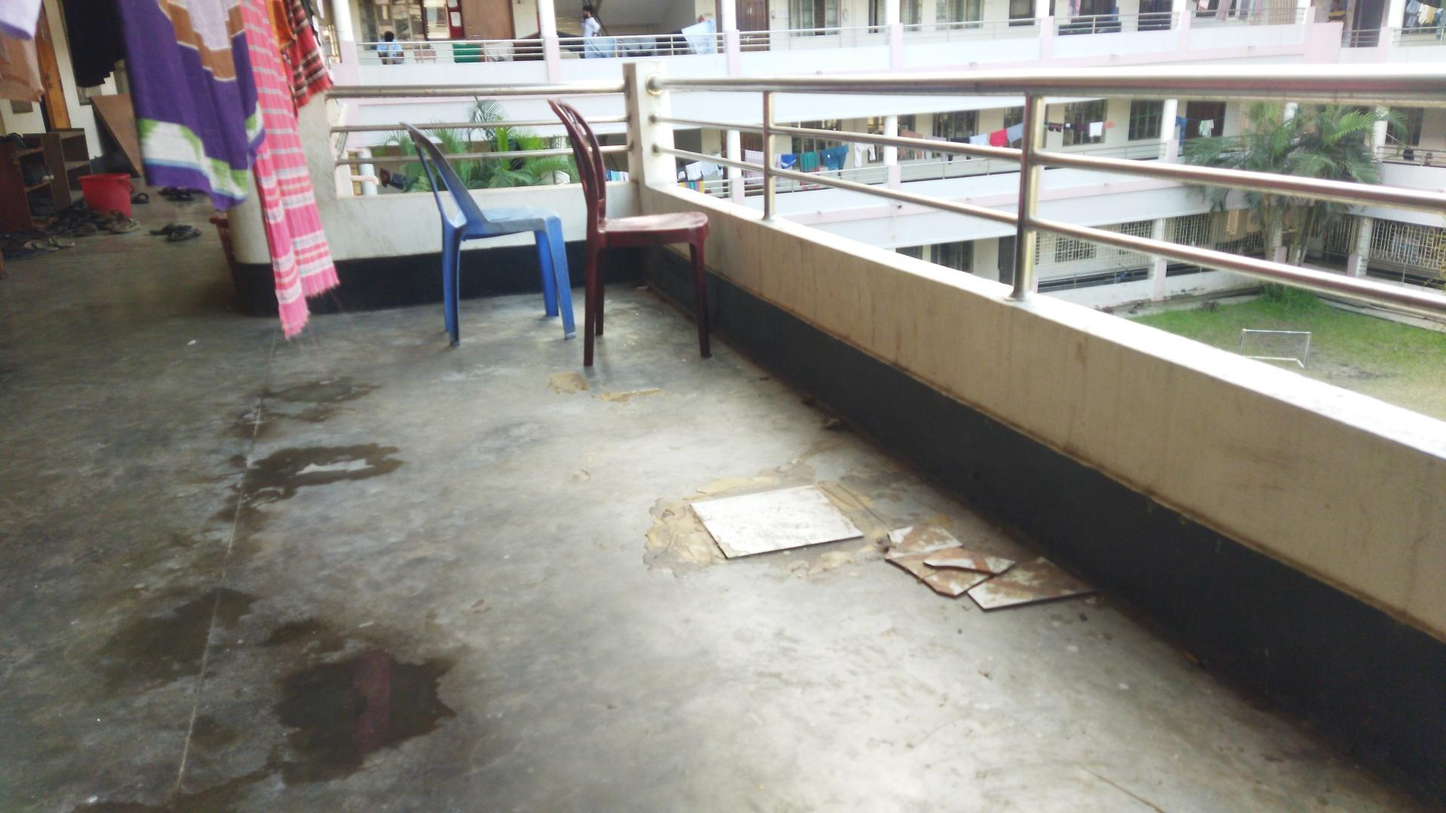Chair: (382, 104, 577, 364), (544, 88, 721, 370)
